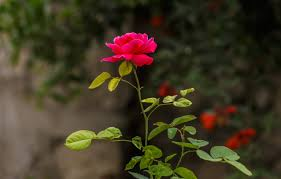lale: (103, 25, 183, 178)
